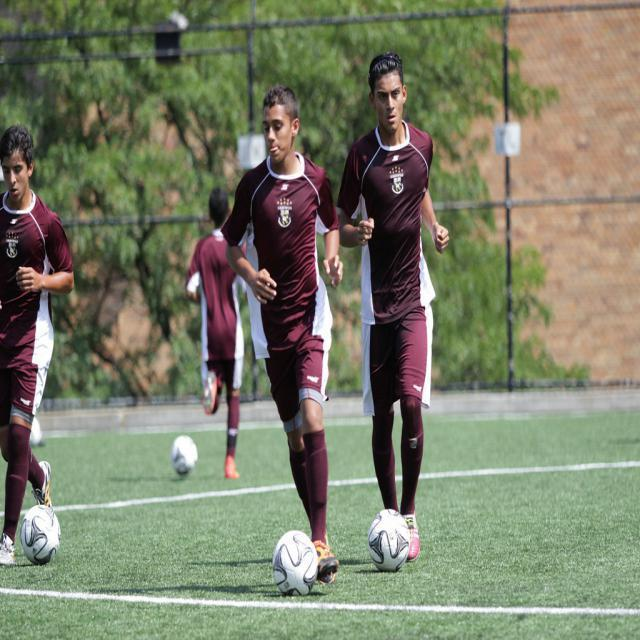football: (268, 535, 338, 595), (367, 512, 423, 575), (153, 432, 217, 486)
